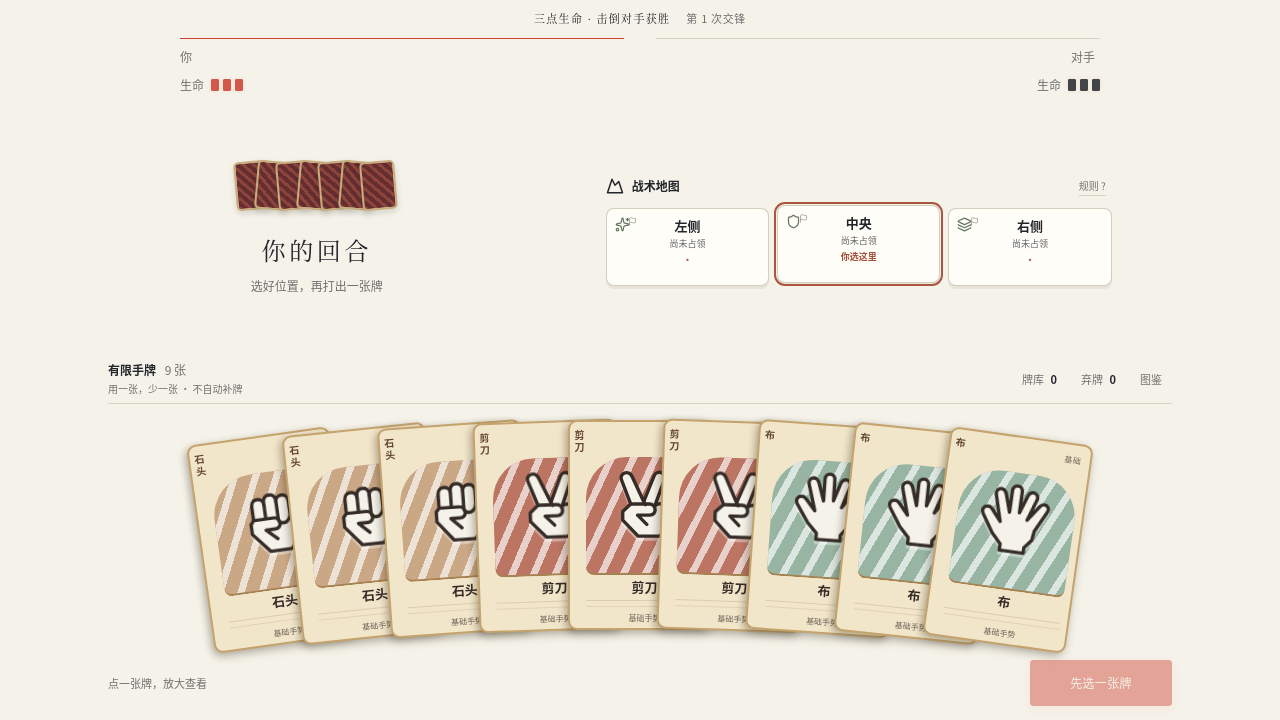
Scenario: moves detailed outcomes into an explicit overlay and keeps next-hand action on the table
The image size is (1280, 720).
Click the button with aria-label "选择石头": [272, 540] box x1=186 y1=426 x2=358 y2=654
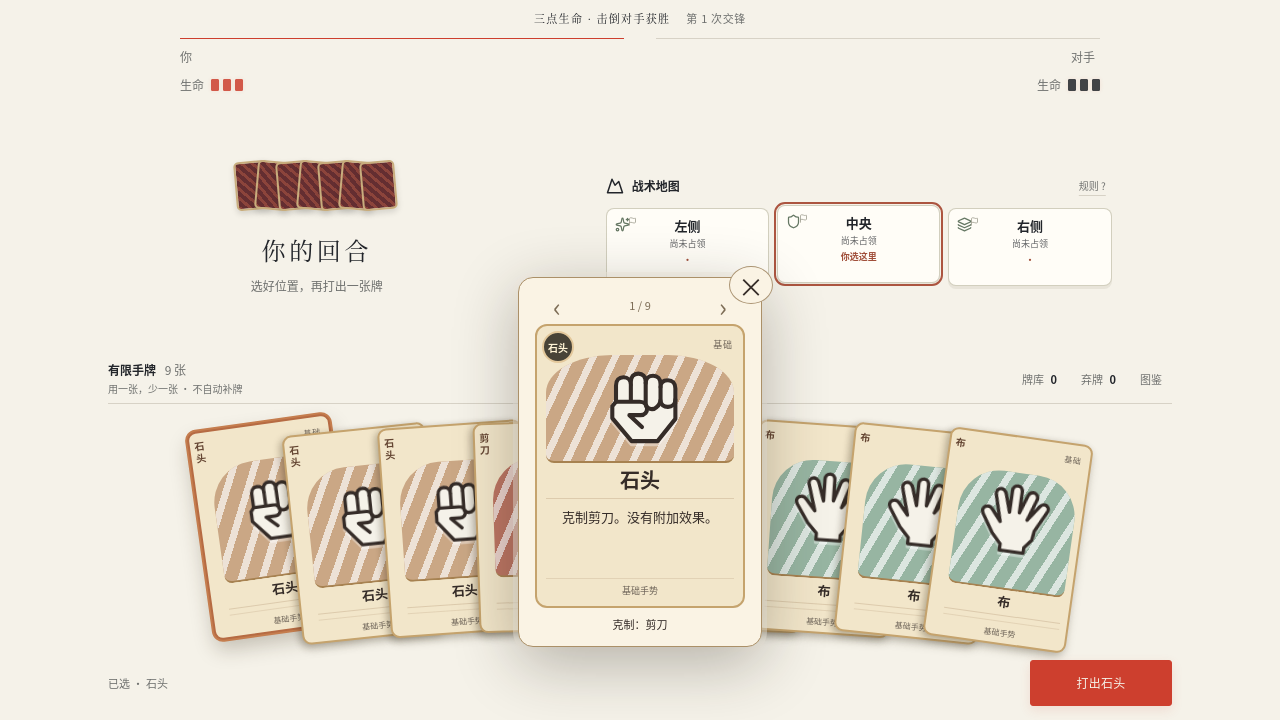
Click the button "打出石头": [1101, 683] box x1=1030 y1=660 x2=1172 y2=706
Wait 1000 ms
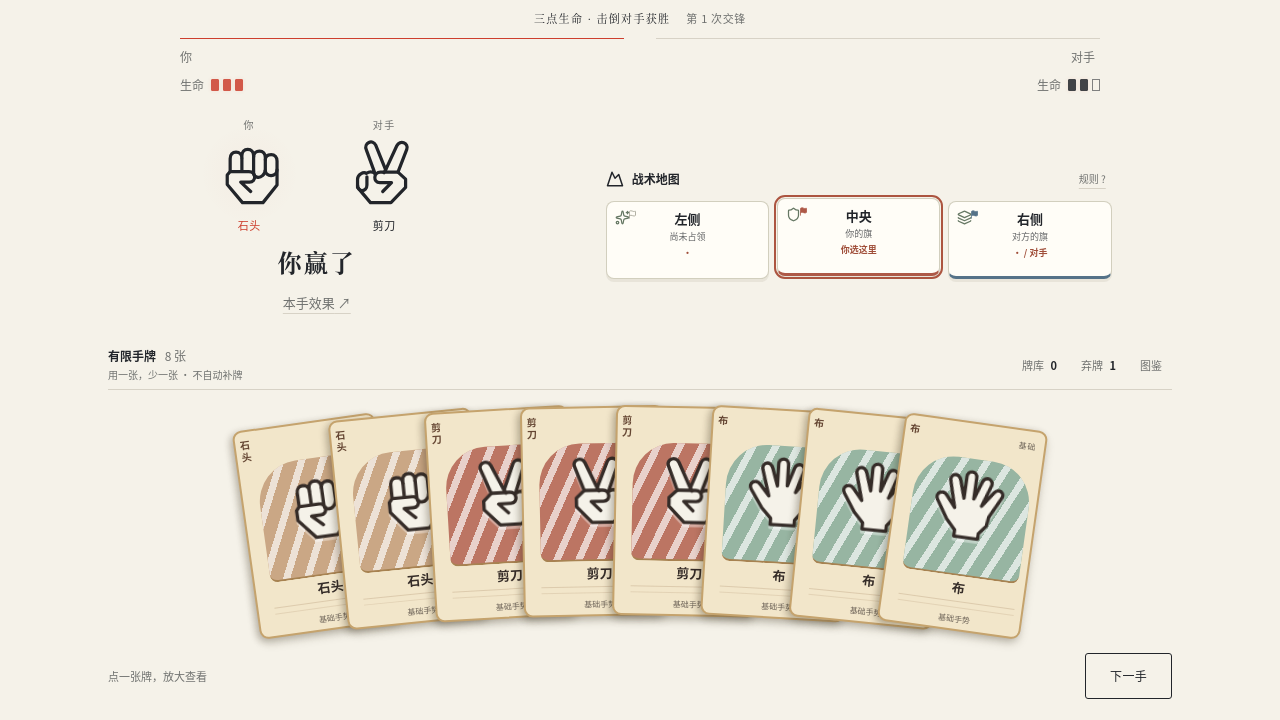
Expected: the button "下一手" is shown, x1=1085 y1=653 x2=1172 y2=699
Click the button "本手效果 ↗": [317, 302] box x1=273 y1=280 x2=361 y2=324
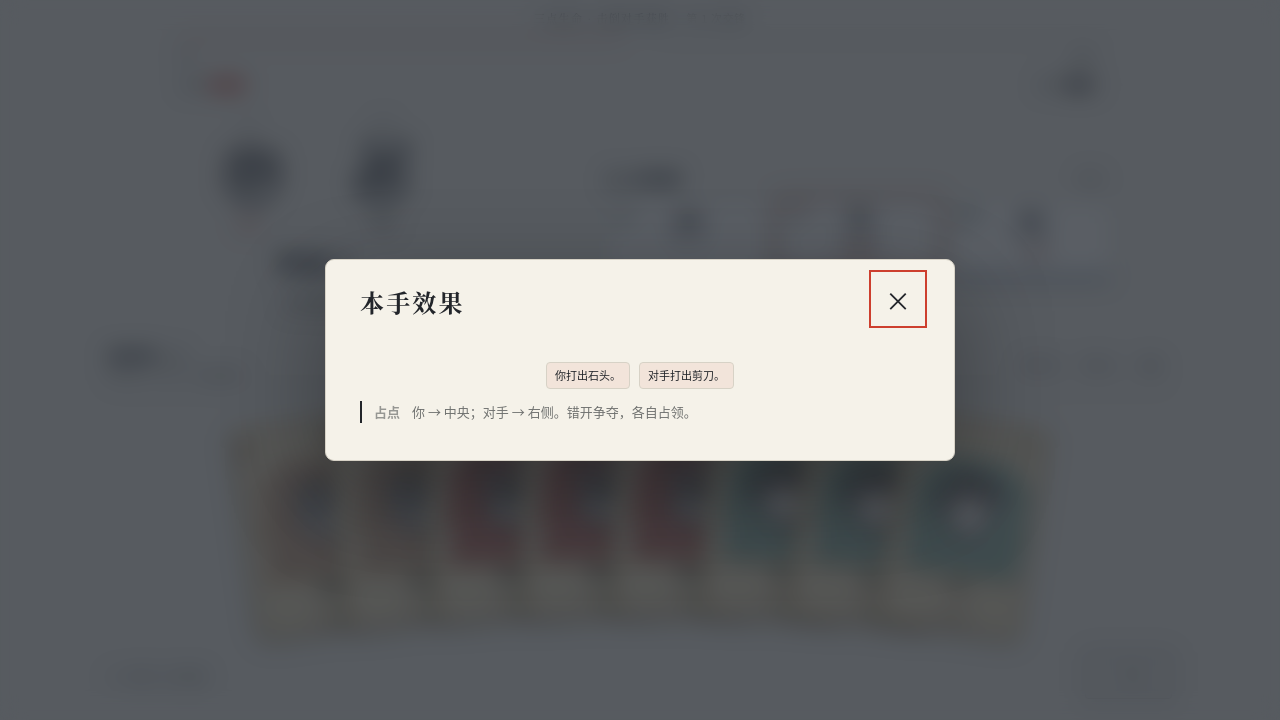
Expected: the element named "位置结算" is shown, x1=360 y1=401 x2=920 y2=423
